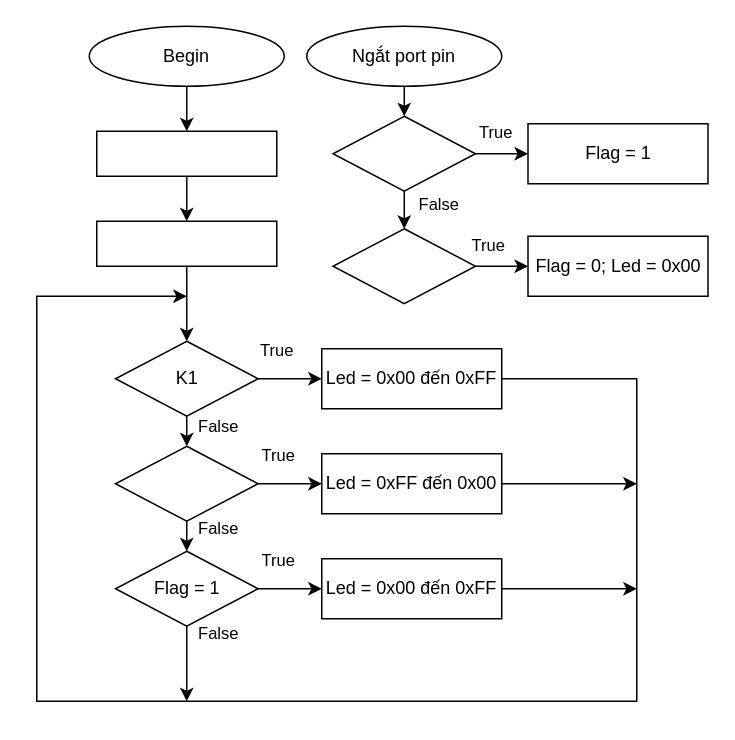
The diagram is 735 pixels wide and 740 high, and some of its shapes have lost their labels. The shapes that lost their labels are listed below. From the top down, each one's centre as x and y in pixels, then its label:
At point 186,153: "Cấu hình".
At point 404,153: "K3".
At point 186,243: "Chớp led 5 lần".
At point 404,265: "K4".
At point 186,483: "K2".
